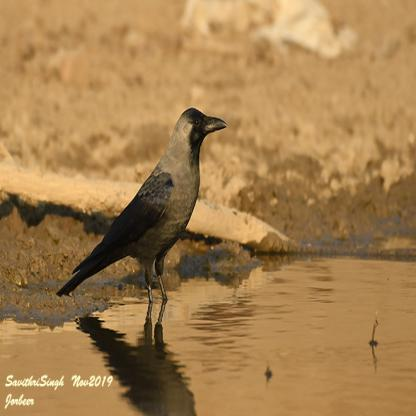Burung: (56, 107, 226, 304)
